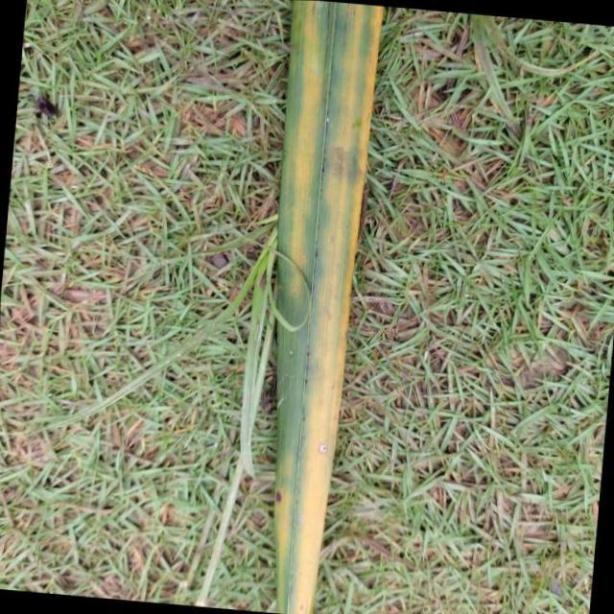Megnesium: (272, 0, 384, 614)
